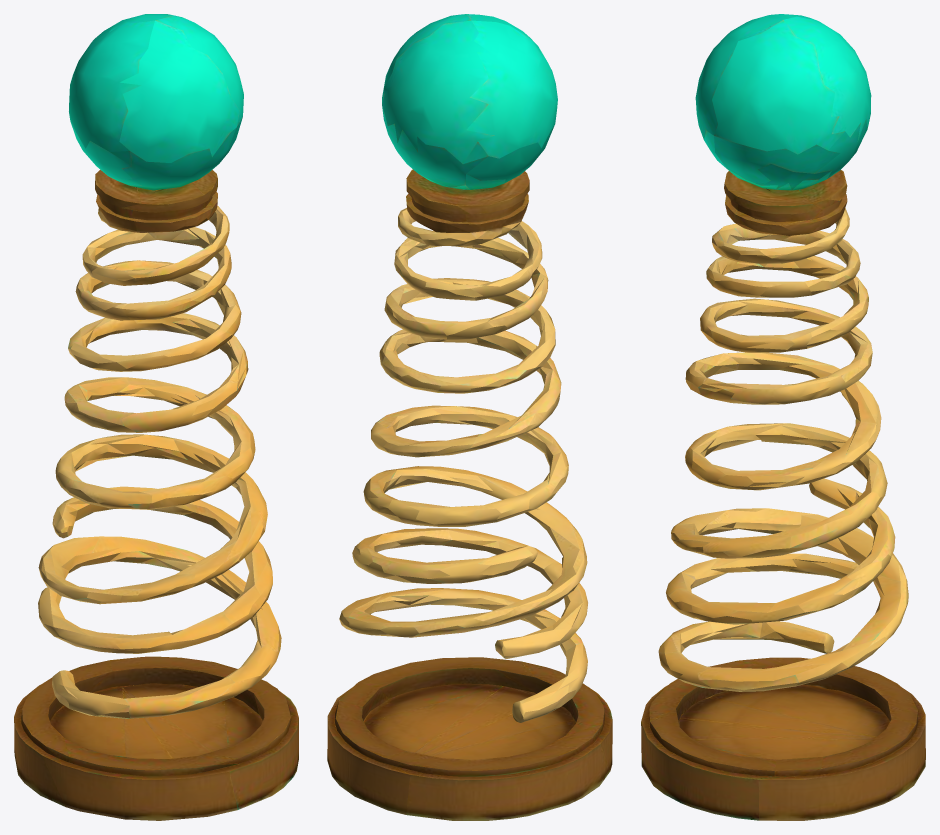
The model's file is powerup-bounce.lod.glb.
The picture shows the model from 3 angles, left to right: view 1: azimuth 30°, elevation 25°; view 2: azimuth 150°, elevation 25°; view 3: azimuth 270°, elevation 25°; orthographic projection.
Size of the model in its own units: 0.6573 by 1.9 by 0.6614.
1 material, 1 textured.
